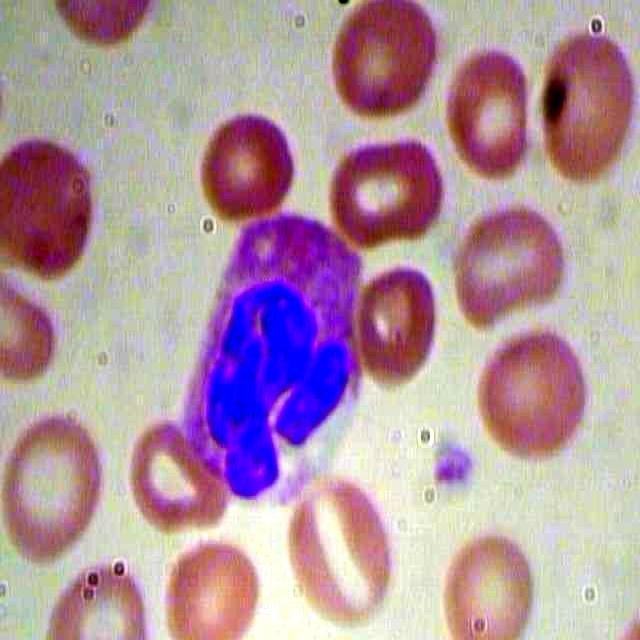RBC: (467, 313, 592, 475), (1, 136, 123, 284), (532, 27, 640, 193), (288, 469, 394, 627), (449, 200, 575, 331), (324, 124, 450, 255), (329, 260, 455, 391), (115, 409, 241, 540), (1, 407, 106, 564), (320, 1, 446, 131), (443, 42, 541, 186), (197, 96, 297, 217), (154, 540, 274, 640), (443, 520, 543, 639)
WBC: (153, 212, 377, 513)
